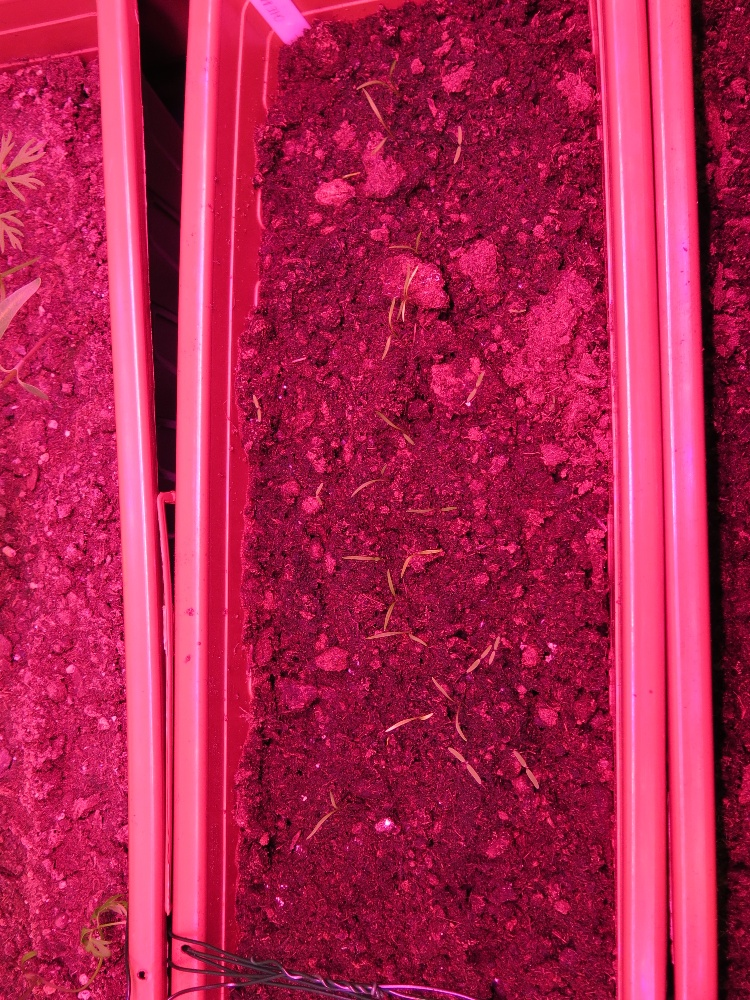crop: (354, 77, 399, 158), (427, 672, 468, 747), (301, 784, 343, 841), (401, 541, 446, 581), (345, 462, 394, 498), (395, 259, 422, 324), (373, 407, 417, 446), (353, 70, 412, 99), (377, 295, 401, 363), (387, 708, 438, 735), (363, 629, 429, 649), (388, 228, 429, 259), (382, 567, 401, 633), (400, 504, 460, 519), (342, 550, 383, 568)
weed: (447, 744, 482, 788), (511, 744, 540, 793), (463, 640, 497, 677), (464, 367, 490, 405), (452, 122, 462, 169), (487, 633, 499, 667)
